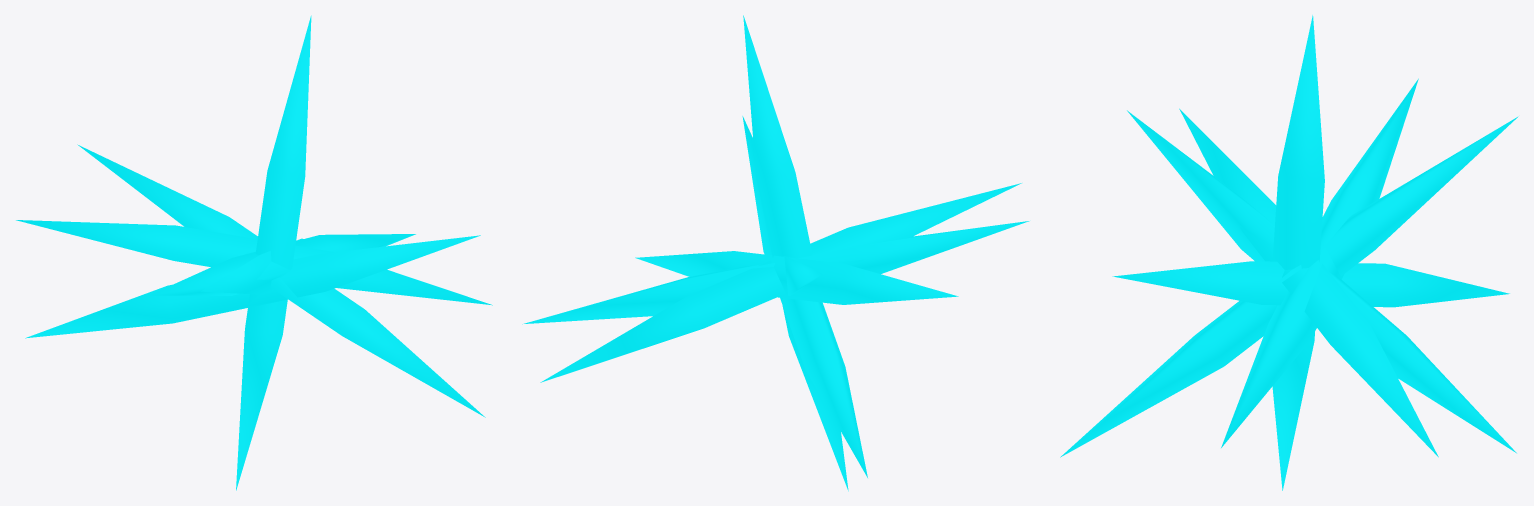
File: BlueSpark.glb
The picture shows the model from 3 angles, left to right: view 1: azimuth 30°, elevation 25°; view 2: azimuth 150°, elevation 25°; view 3: azimuth 270°, elevation 25°; orthographic projection. The views are drawn at different scales.
Visible parts, largest first — view 1: Spark; view 2: Spark; view 3: Spark.
Boxes of the visible parts, bbox=[...] form: Spark: bbox=[16, 15, 492, 490]; Spark: bbox=[522, 15, 1029, 491]; Spark: bbox=[1060, 15, 1518, 490].
Size of the model in its own units: 0.2118 by 0.22 by 0.1735.
